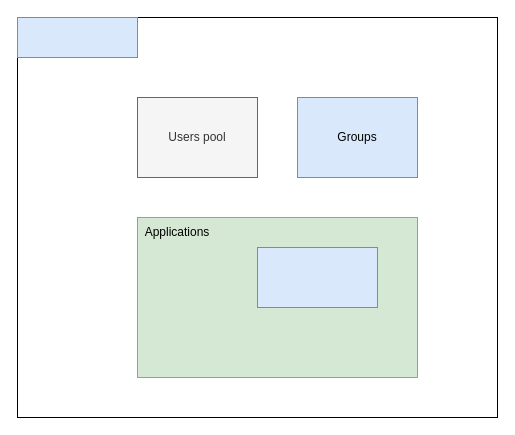
Some shapes in this 515 by 435 pixel diagram are drawn without their labels. Each missing label, with the centre of its shape:
"App Roles" goes at pixel 317 277.
"Azure Directory" goes at pixel 77 37.
